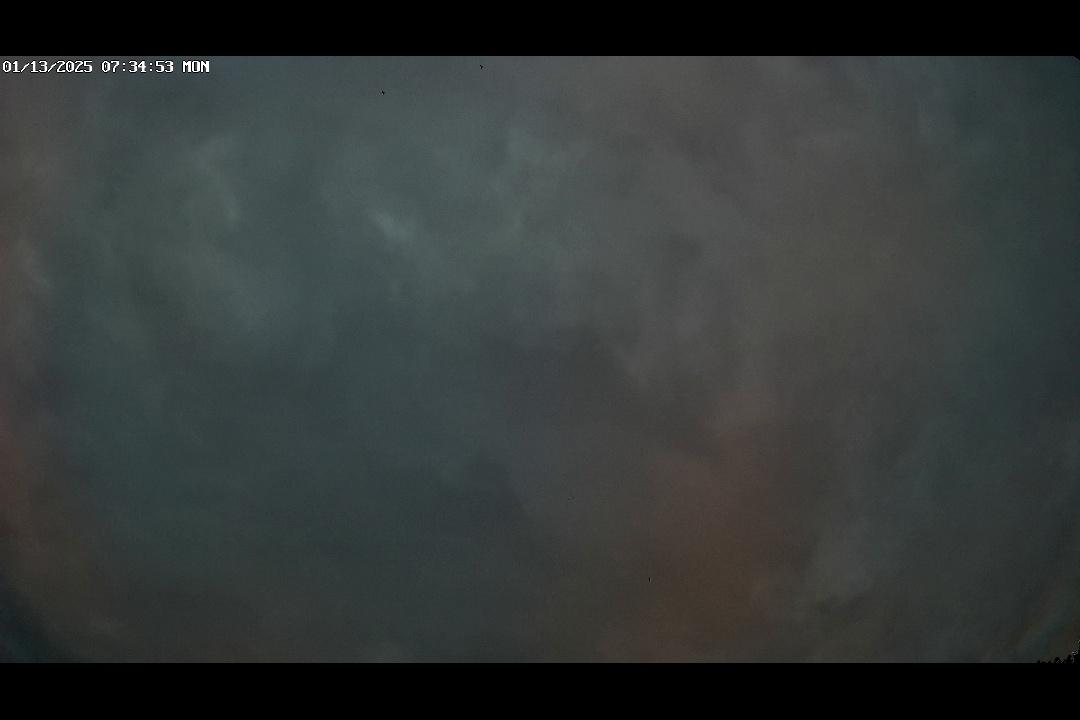WildLife: (367, 85, 401, 99), (475, 60, 488, 73)
